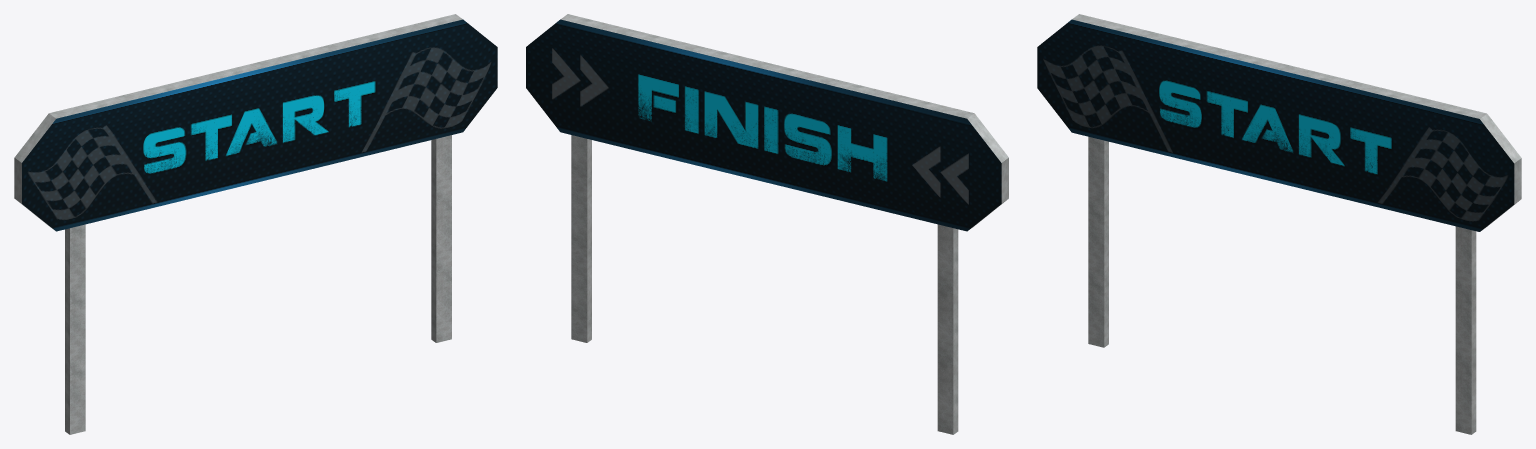
Rendered from Start_Finish.fbx.
3 renders of one model, left to right at view 1: azimuth 30°, elevation 25°; view 2: azimuth 150°, elevation 25°; view 3: azimuth 330°, elevation 25°, orthographic.
Visible parts, largest first — view 1: Start_Finish_Board1; view 2: Start_Finish_Board1; view 3: Start_Finish_Board1.
Boxes of the visible parts, x1,y1,x2,y2 form: Start_Finish_Board1: (14, 14, 497, 434); Start_Finish_Board1: (526, 14, 1008, 434); Start_Finish_Board1: (1037, 14, 1521, 434).
Size of the model in its own units: 36.33 by 23.43 by 0.9881.
1 material, 1 textured.
